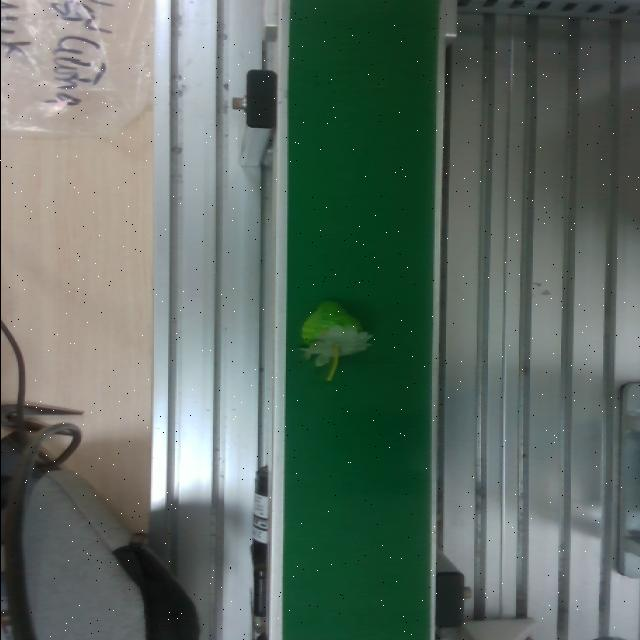Small Unripe Strawberry: (298, 299, 374, 381)
conveyor: (274, 0, 448, 640)
